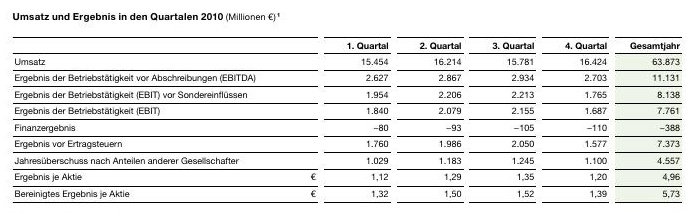table: (0, 0, 695, 213)
